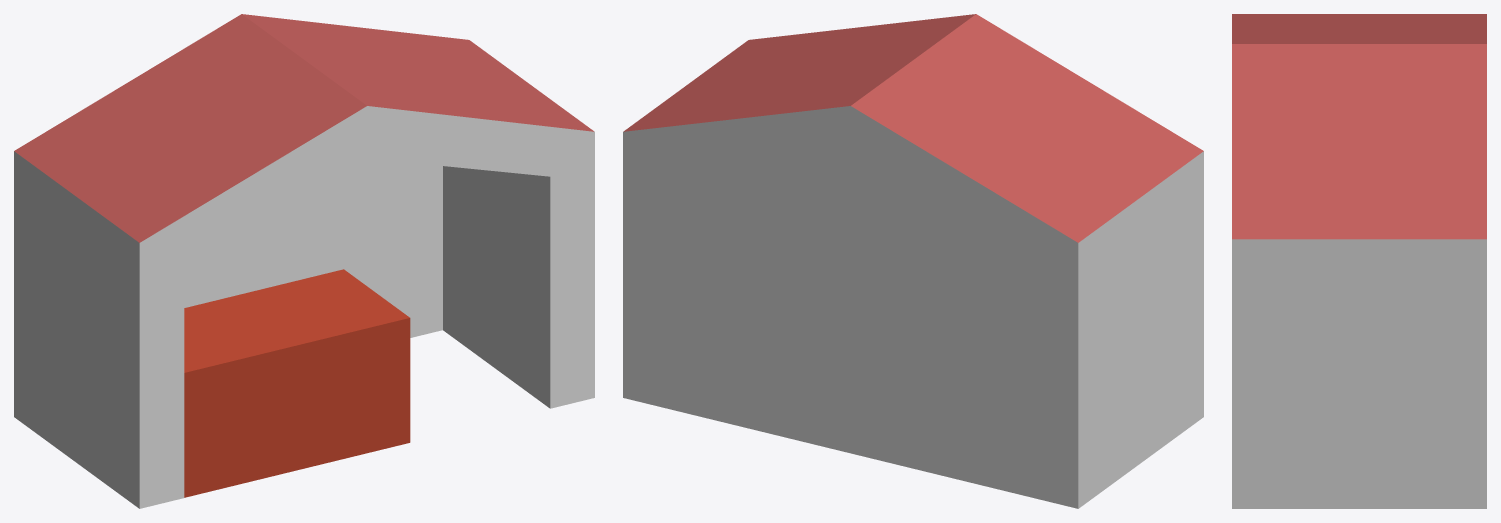
The model's file is stall01_s03.FBX.
3 views of the same model, side by side, from view 1: azimuth 30°, elevation 25°; view 2: azimuth 150°, elevation 25°; view 3: azimuth 270°, elevation 25° (orthographic).
Visible parts, largest first — view 1: stall01_s03; view 2: stall01_s03; view 3: stall01_s03.
Boxes of the visible parts, x1,y1,x2,y2 form: stall01_s03: (14,14,594,508); stall01_s03: (623,14,1203,508); stall01_s03: (1232,14,1486,508).
Bounding box in the file's own units: 359 × 171 × 262.
Materials: 1 (1 with a texture image).
